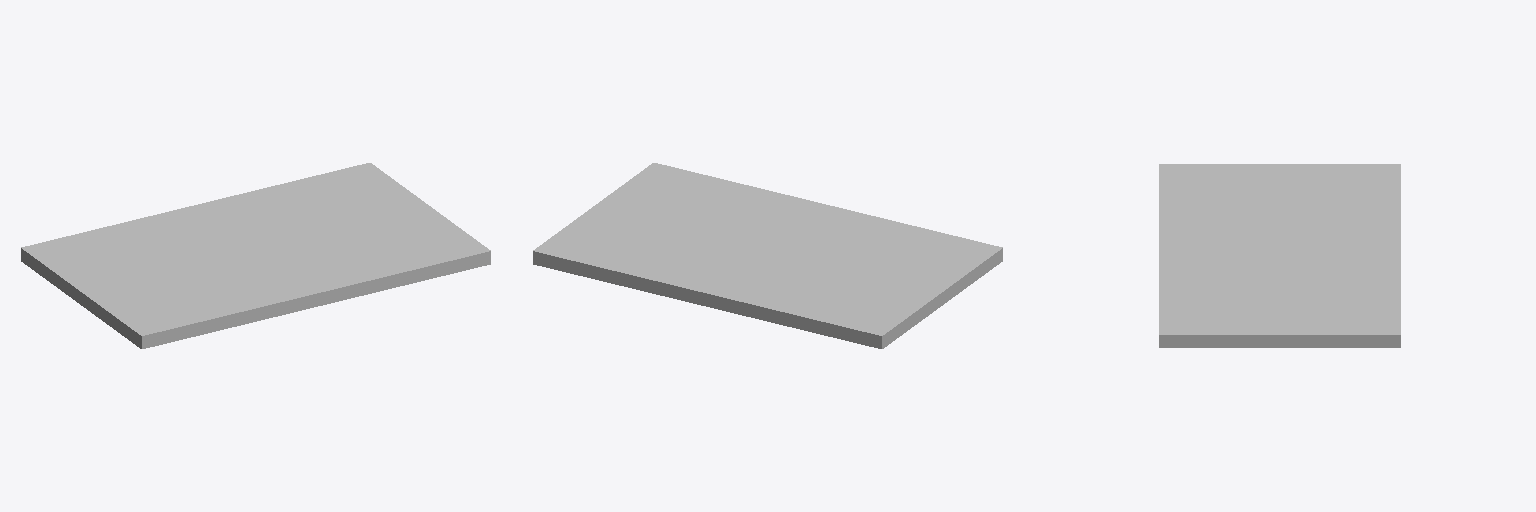
Rendered from Tower_Block_Platform_3x5.obj.
3 views of the same model, side by side, from view 1: azimuth 30°, elevation 25°; view 2: azimuth 150°, elevation 25°; view 3: azimuth 270°, elevation 25° (orthographic).
Parts seen in each view (by area): view 1: Tower_Block_Platform_3x5; view 2: Tower_Block_Platform_3x5; view 3: Tower_Block_Platform_3x5.
Boxes of the visible parts, x1=… form: Tower_Block_Platform_3x5: x1=21, y1=163, x2=490, y2=348; Tower_Block_Platform_3x5: x1=533, y1=163, x2=1002, y2=348; Tower_Block_Platform_3x5: x1=1159, y1=164, x2=1400, y2=347.
Bounding box in the file's own units: 8.26 × 0.3 × 4.96.